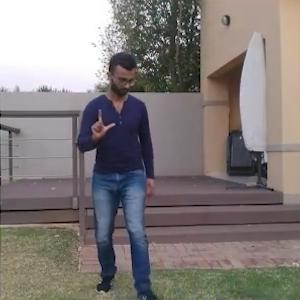land_hand: (84, 106, 118, 144)
